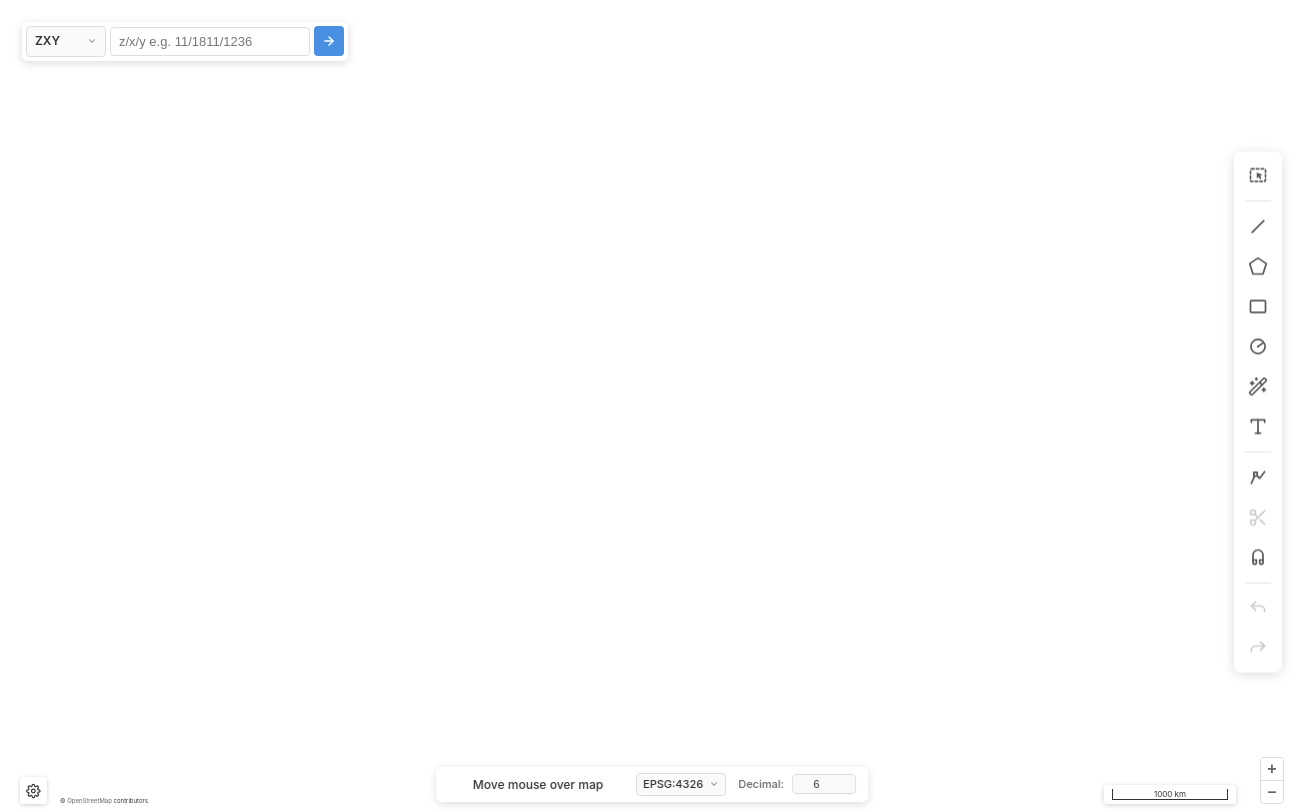
Test: a ?ws= deep link activates the named workspace and persists it
What coordinates should you click on to do the following:
click the button titled "Settings"
I would click on:
 (33, 791)
Its box is [20,777,47,804].
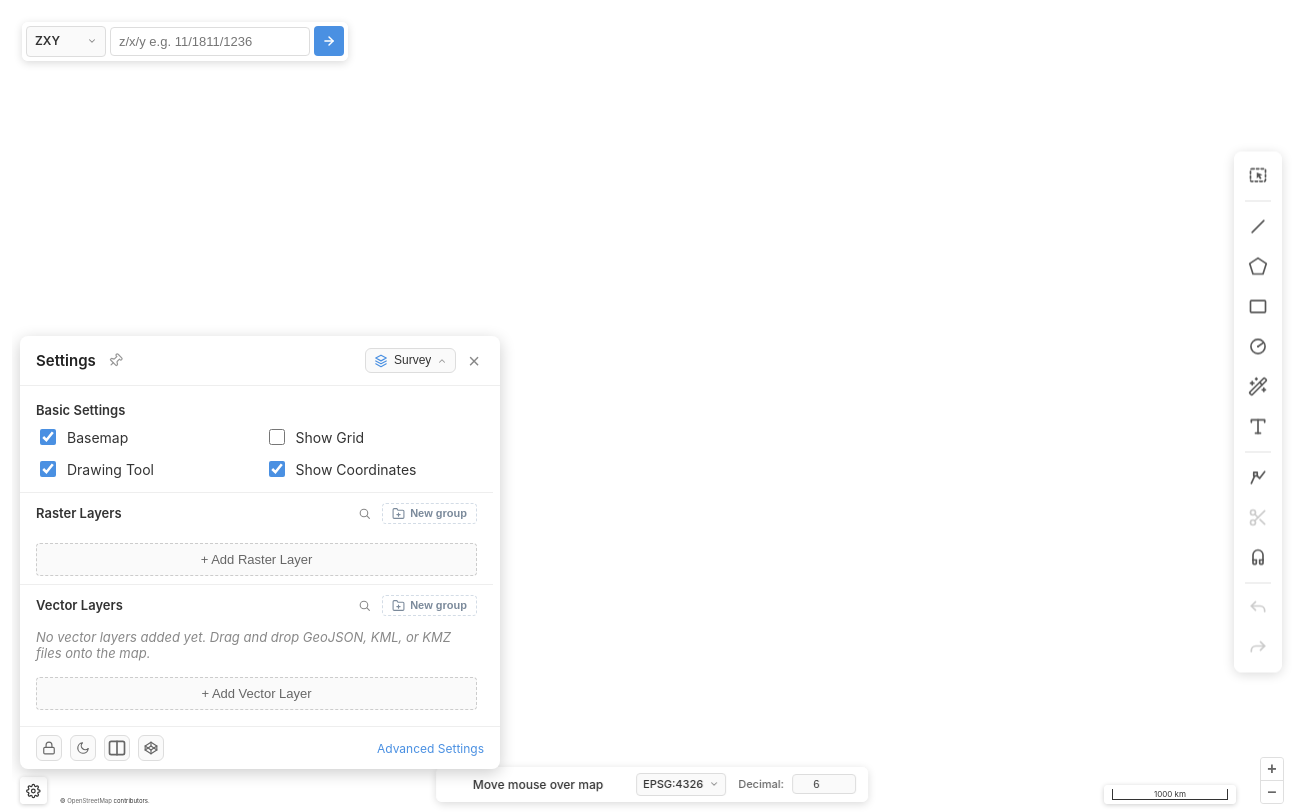
Now the button with aria-label "switch workspace — current: Survey" is shown, box [365,348,456,373]
